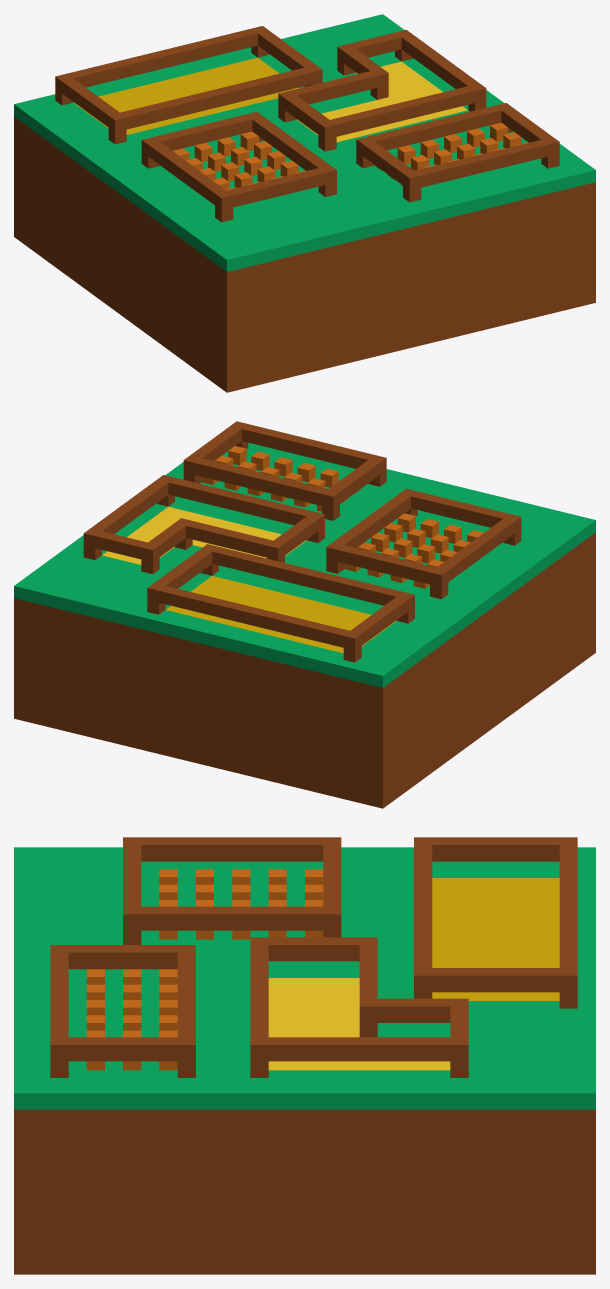
The model's file is Farming.obj.
3 views of the same model, one above another, from view 1: azimuth 30°, elevation 25°; view 2: azimuth 150°, elevation 25°; view 3: azimuth 270°, elevation 25° (orthographic). The views are drawn at different scales.
Size of the model in its own units: 3.2 by 1.3 by 3.2.
Materials: 1 (1 with a texture image).
